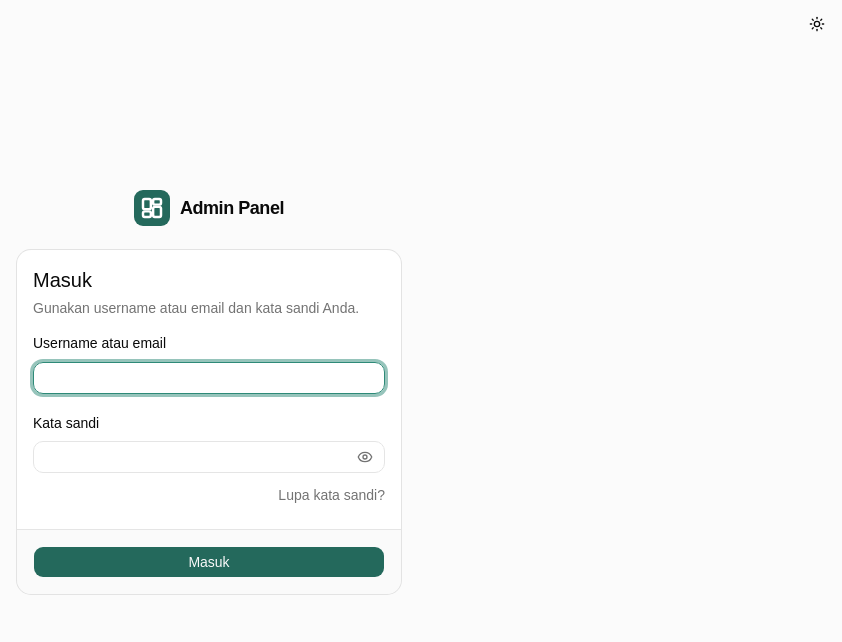
Test: login › shows the server message for wrong credentials
The width and height of the screenshot is (842, 642).
Type "budi" into the field labelled "Username atau email".
click(209, 378); type("budi")  # box [33,362,385,394]
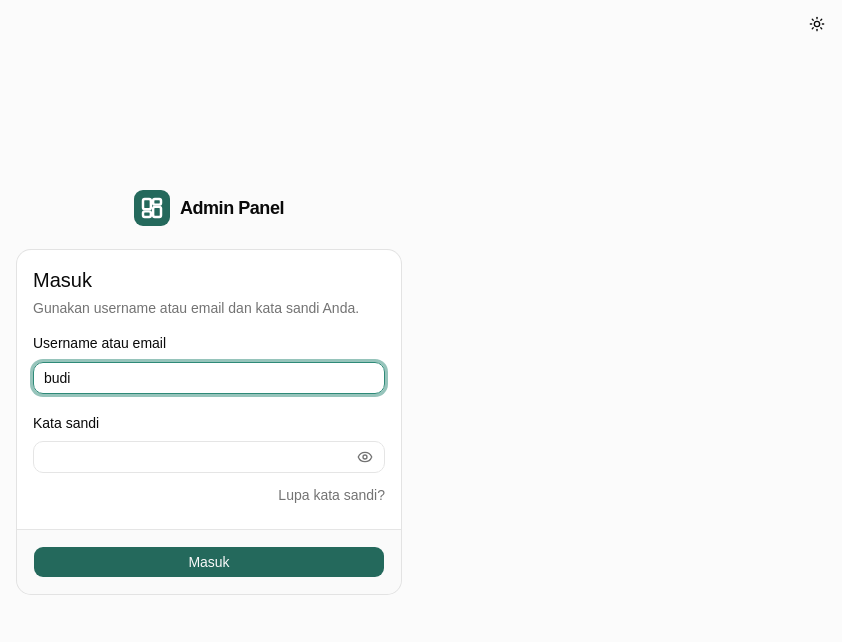
Type "salah123" into the password field labelled "Kata sandi".
click(209, 457); type("salah123")  # box [33,441,385,473]
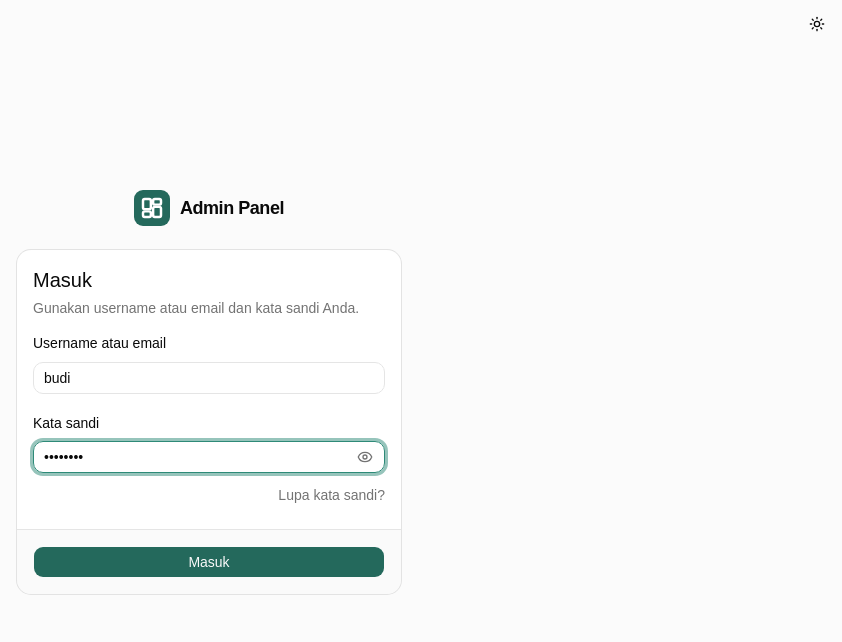
Click the button "Masuk".
click(209, 562)  # box [33,546,385,578]
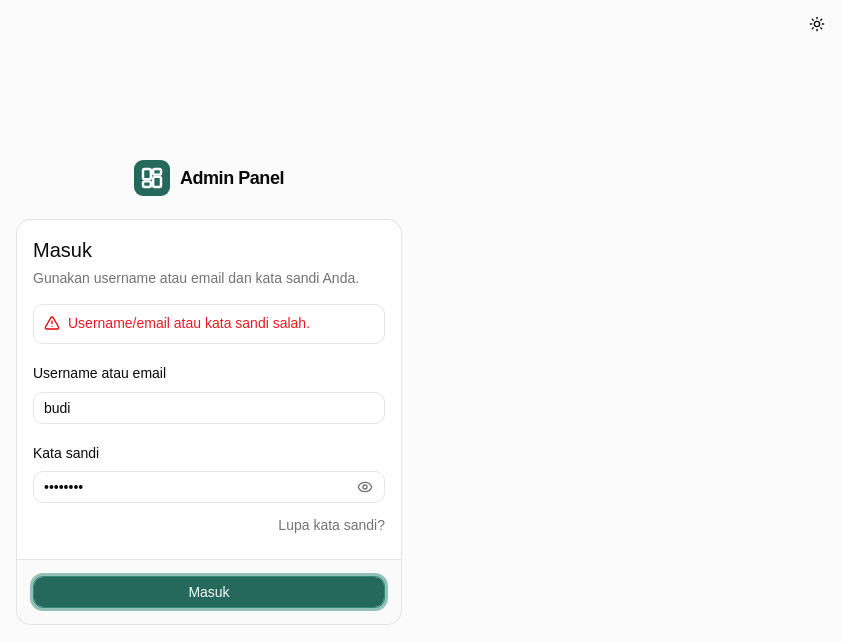
Now the text "Username/email atau kata sandi salah." is shown, box [68,315,310,331]
